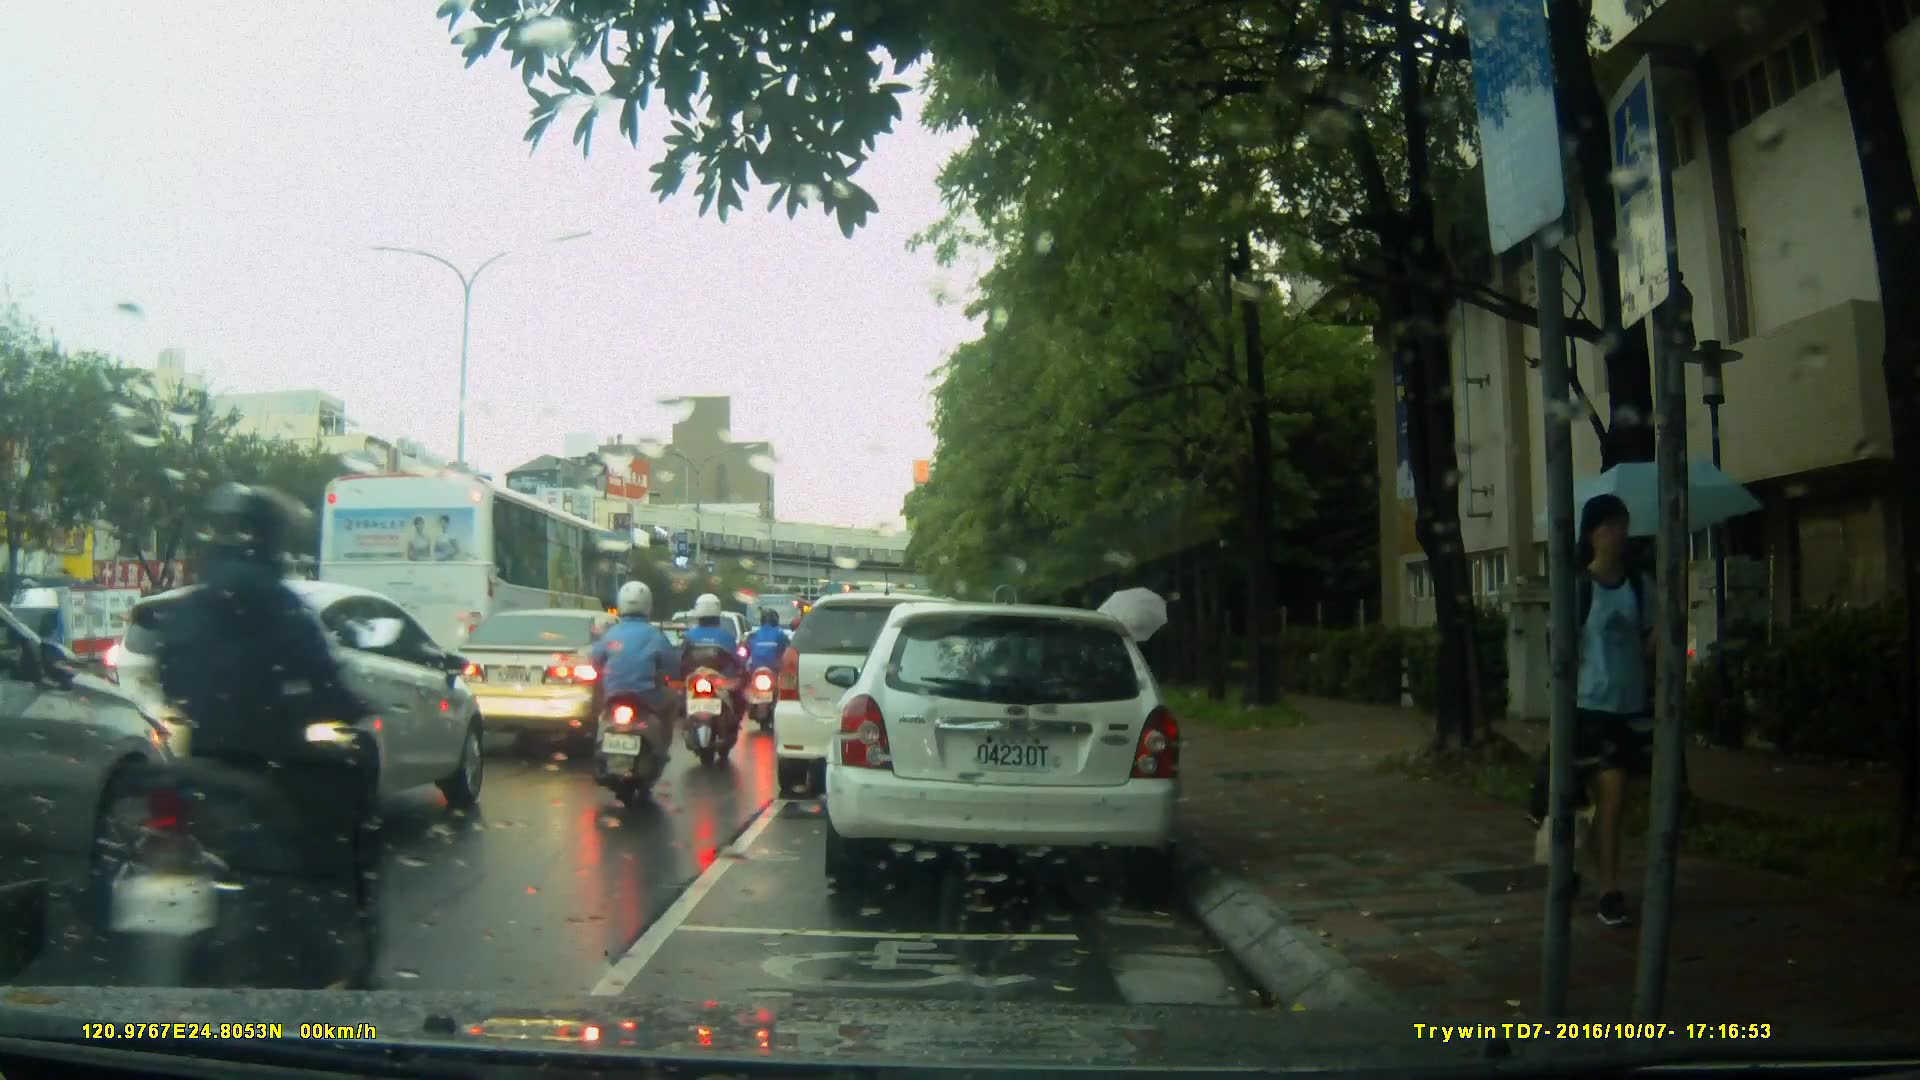pedestrian: (1523, 488, 1681, 941)
rider: (106, 481, 388, 1037), (590, 583, 696, 798), (678, 589, 752, 782), (740, 607, 793, 743)
vehicle: (835, 594, 1194, 898), (101, 576, 488, 846), (315, 470, 634, 729), (1, 547, 184, 971), (776, 590, 1026, 784), (437, 606, 673, 753), (1, 586, 155, 697), (613, 621, 720, 710)
